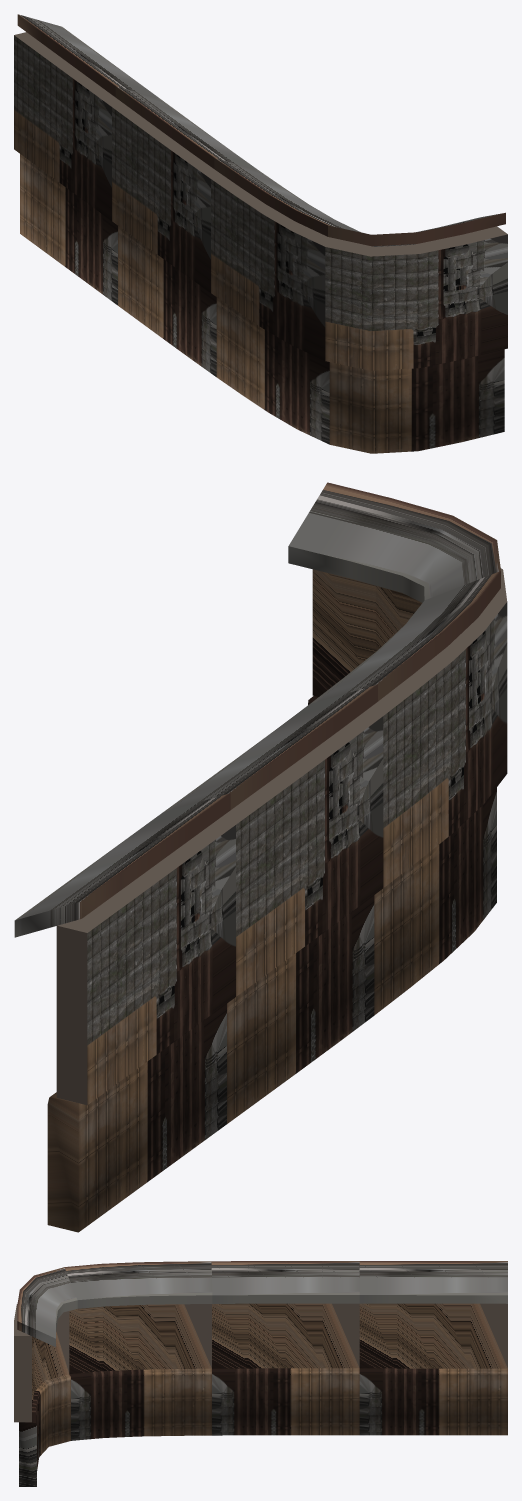
The model's file is zenkei_miniwall_curved_CollisionSetup.fbx.
3 renders of one model, top to bottom at view 1: azimuth 30°, elevation 25°; view 2: azimuth 150°, elevation 25°; view 3: azimuth 270°, elevation 25°, orthographic. The views are drawn at different scales.
Parts seen in each view (by area): view 1: collisionConvex.644; view 2: collisionConvex.644; view 3: collisionConvex.644.
Boxes of the visible parts, x1,y1,x2,y2 form: collisionConvex.644: (14,14,507,453); collisionConvex.644: (14,482,507,1232); collisionConvex.644: (14,1261,507,1486).
Bounding box in the file's own units: 1.73 × 5.9 × 2.19.
